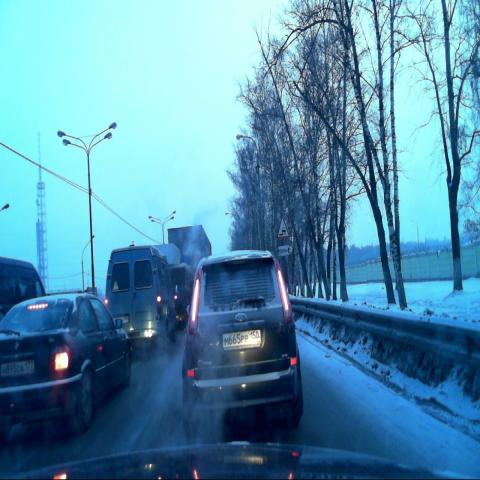1_19: (276, 218, 289, 238)
